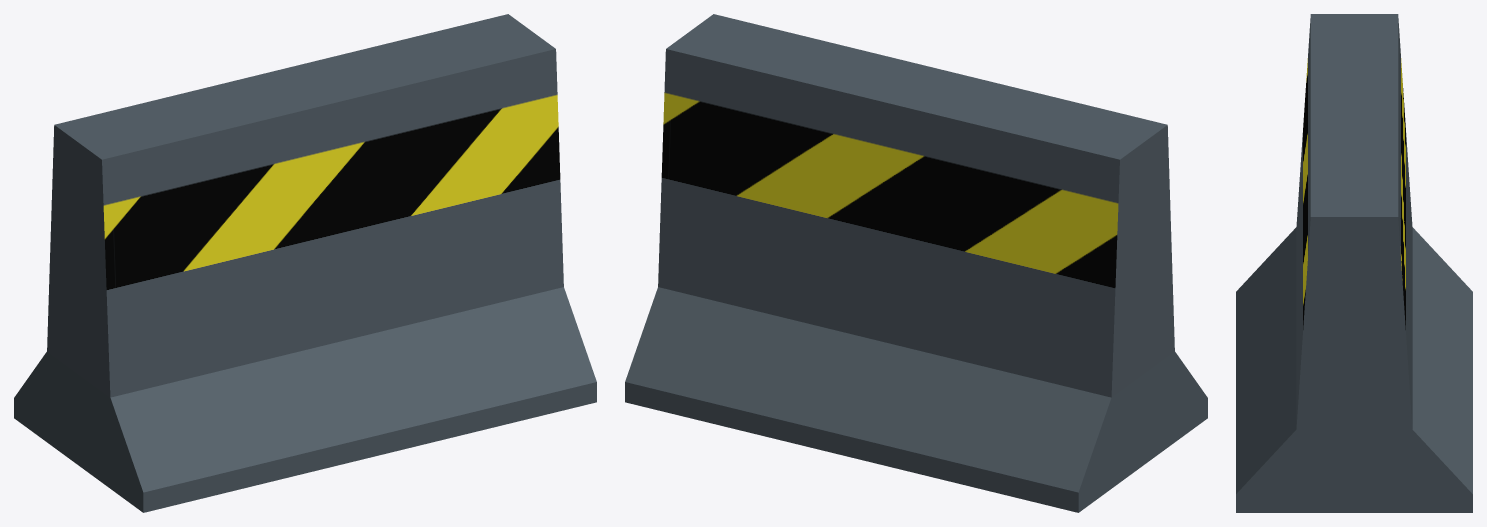
The model's file is cityobs.fbx.
3 renders of one model, left to right at view 1: azimuth 30°, elevation 25°; view 2: azimuth 150°, elevation 25°; view 3: azimuth 270°, elevation 25°, orthographic. The views are drawn at different scales.
Parts seen in each view (by area): view 1: Cube; view 2: Cube; view 3: Cube.
Boxes of the visible parts, <box> form: Cube: <box>14,14,596,512</box>; Cube: <box>625,14,1207,512</box>; Cube: <box>1236,14,1472,512</box>.
Bounding box in the file's own units: 1088 × 741 × 537.
